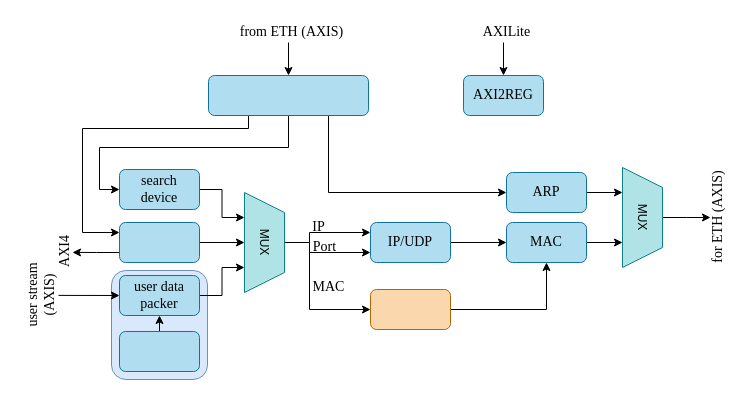
Some shapes in this 750 by 397 pixel diagram are drawn without their labels. Here are the shapes that lost their labels. From the top down, the centre of each, then its label:
[288,95]: Splitter
[159,242]: AXI2UDP
[410,309]: queue
[159,351]: channel list
